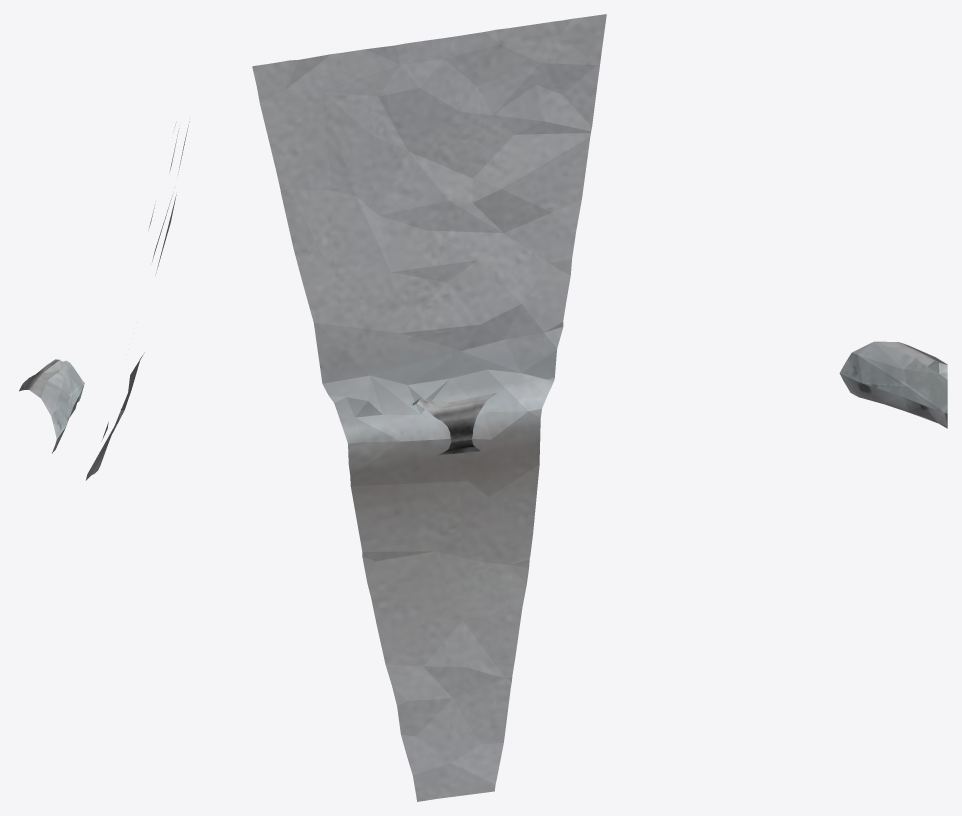
The picture shows the model from 3 angles, left to right: view 1: azimuth 30°, elevation 25°; view 2: azimuth 150°, elevation 25°; view 3: azimuth 270°, elevation 25°; orthographic projection. The views are drawn at different scales.
Bounding box in the file's own units: 0.2677 × 0.8374 × 0.3105.
1 material, 1 textured.
